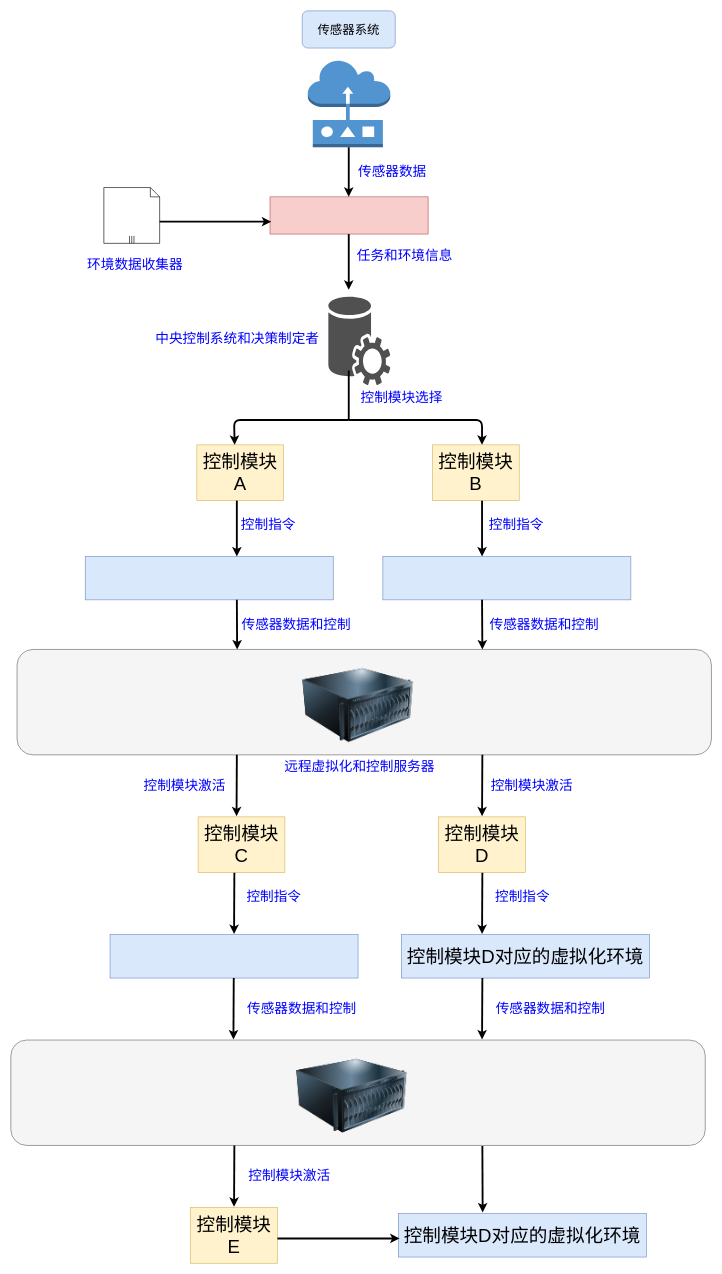
Some shapes in this 722 by 1274 pixel diagram are drawn without their labels. Here are the shapes that lost their labels. From the top down, the box of each, then its label:
(269, 196, 428, 234): 任务和环境监测系统
(85, 556, 333, 600): 控制模块A对应的虚拟化环境
(382, 556, 631, 600): 控制模块B对应的虚拟化环境
(109, 934, 358, 978): 控制模块C对应的虚拟化环境
